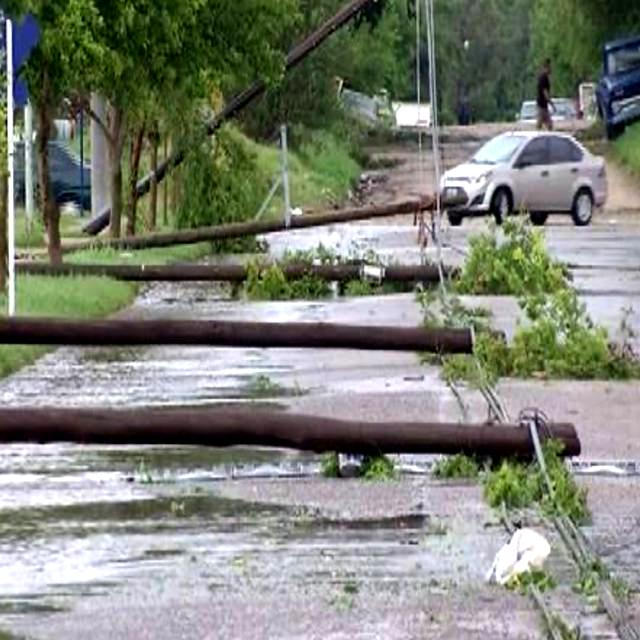Broken Pole: (80, 0, 372, 229), (0, 408, 582, 458), (64, 192, 468, 254), (0, 314, 472, 352), (10, 258, 460, 288)
